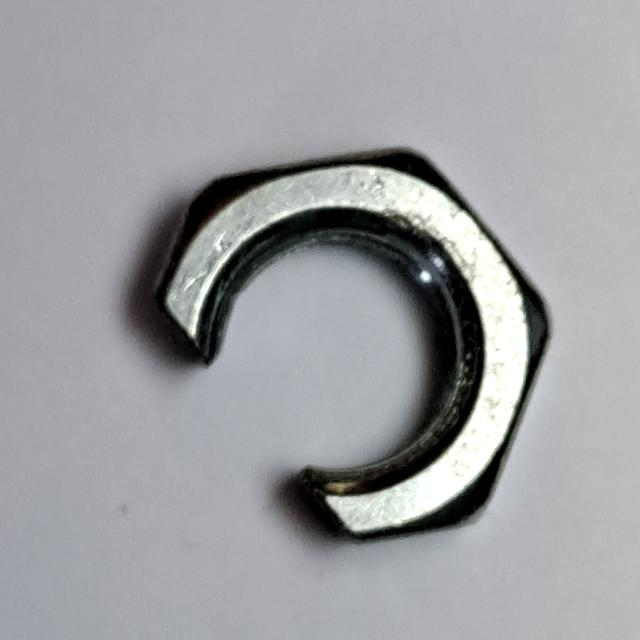Fracture: (135, 137, 560, 563)
